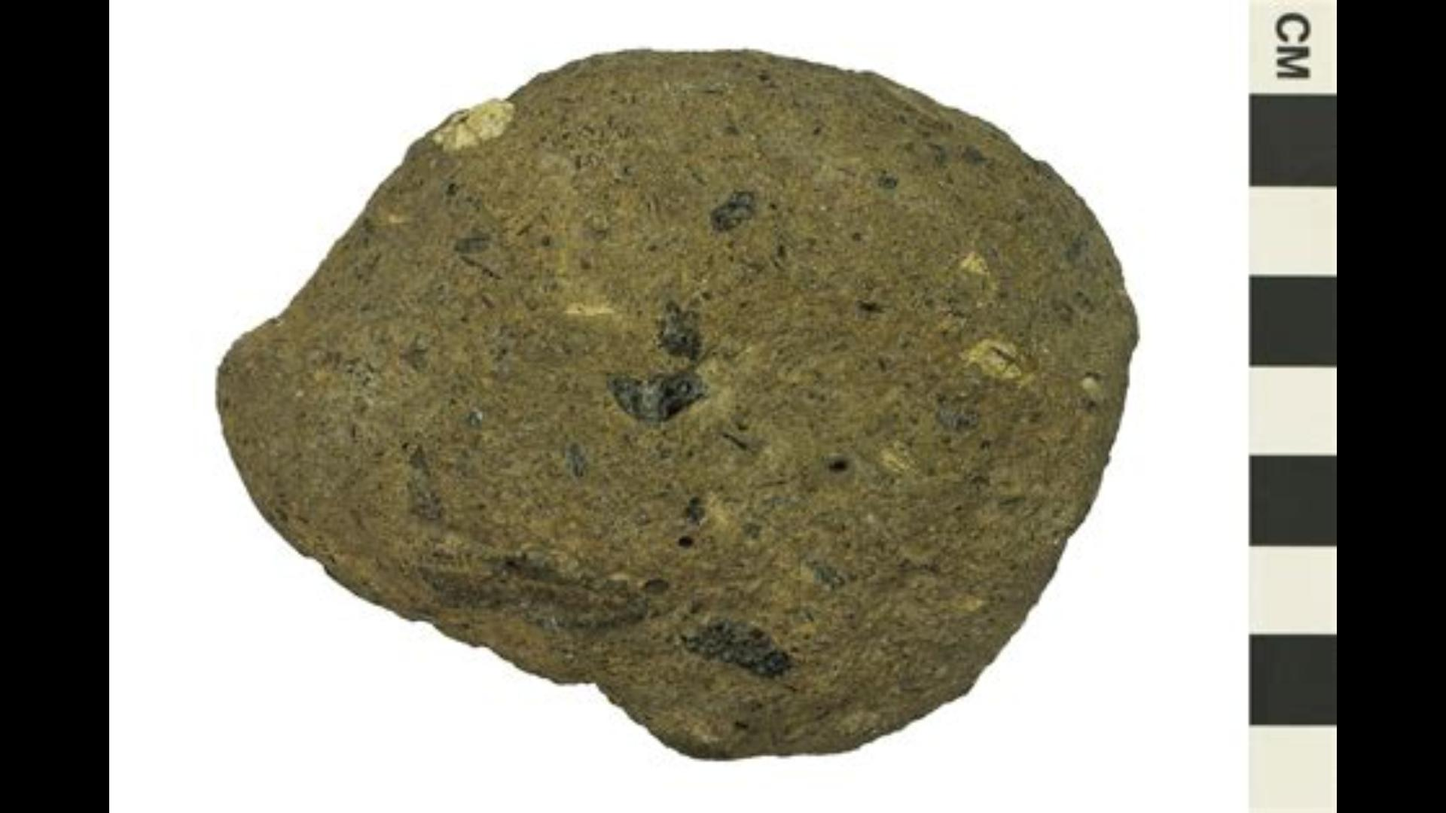rock: (218, 52, 1132, 756)
